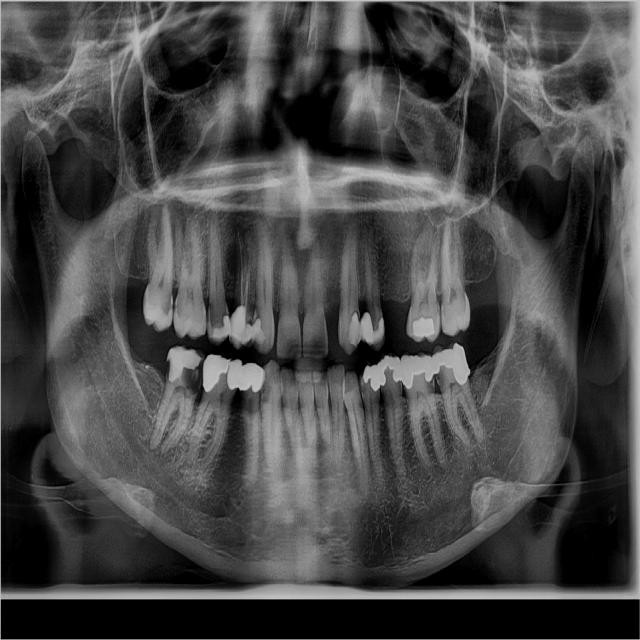Caries: (180, 359, 204, 399), (260, 369, 272, 404), (435, 370, 447, 399), (162, 290, 173, 320), (206, 301, 214, 332), (424, 374, 435, 396), (174, 293, 181, 319), (252, 304, 259, 325), (143, 292, 148, 313), (359, 382, 366, 396), (166, 361, 170, 381), (202, 309, 206, 328), (246, 314, 252, 326), (436, 304, 440, 321), (442, 305, 444, 320)
Filling: (432, 343, 471, 385), (203, 355, 242, 392), (166, 346, 201, 383), (228, 303, 255, 347), (400, 356, 435, 389), (360, 312, 385, 352), (238, 363, 264, 392), (378, 356, 402, 385), (212, 315, 231, 341), (348, 311, 361, 346), (363, 365, 380, 391), (413, 317, 435, 337), (251, 318, 266, 343)
Missing teeth: (378, 297, 412, 346), (330, 323, 338, 335)
Periapical lesion: (225, 245, 252, 283), (158, 432, 183, 457), (232, 224, 252, 245), (393, 464, 408, 484), (148, 431, 161, 453)
Root Canal Treatment: (237, 231, 249, 306)
